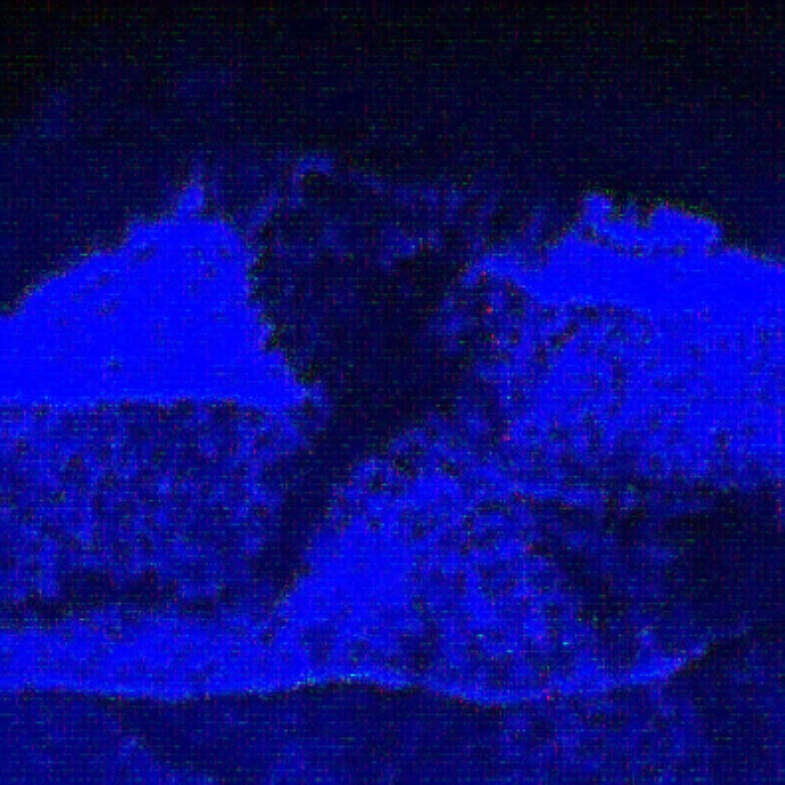rip_current: (132, 136, 511, 646)
